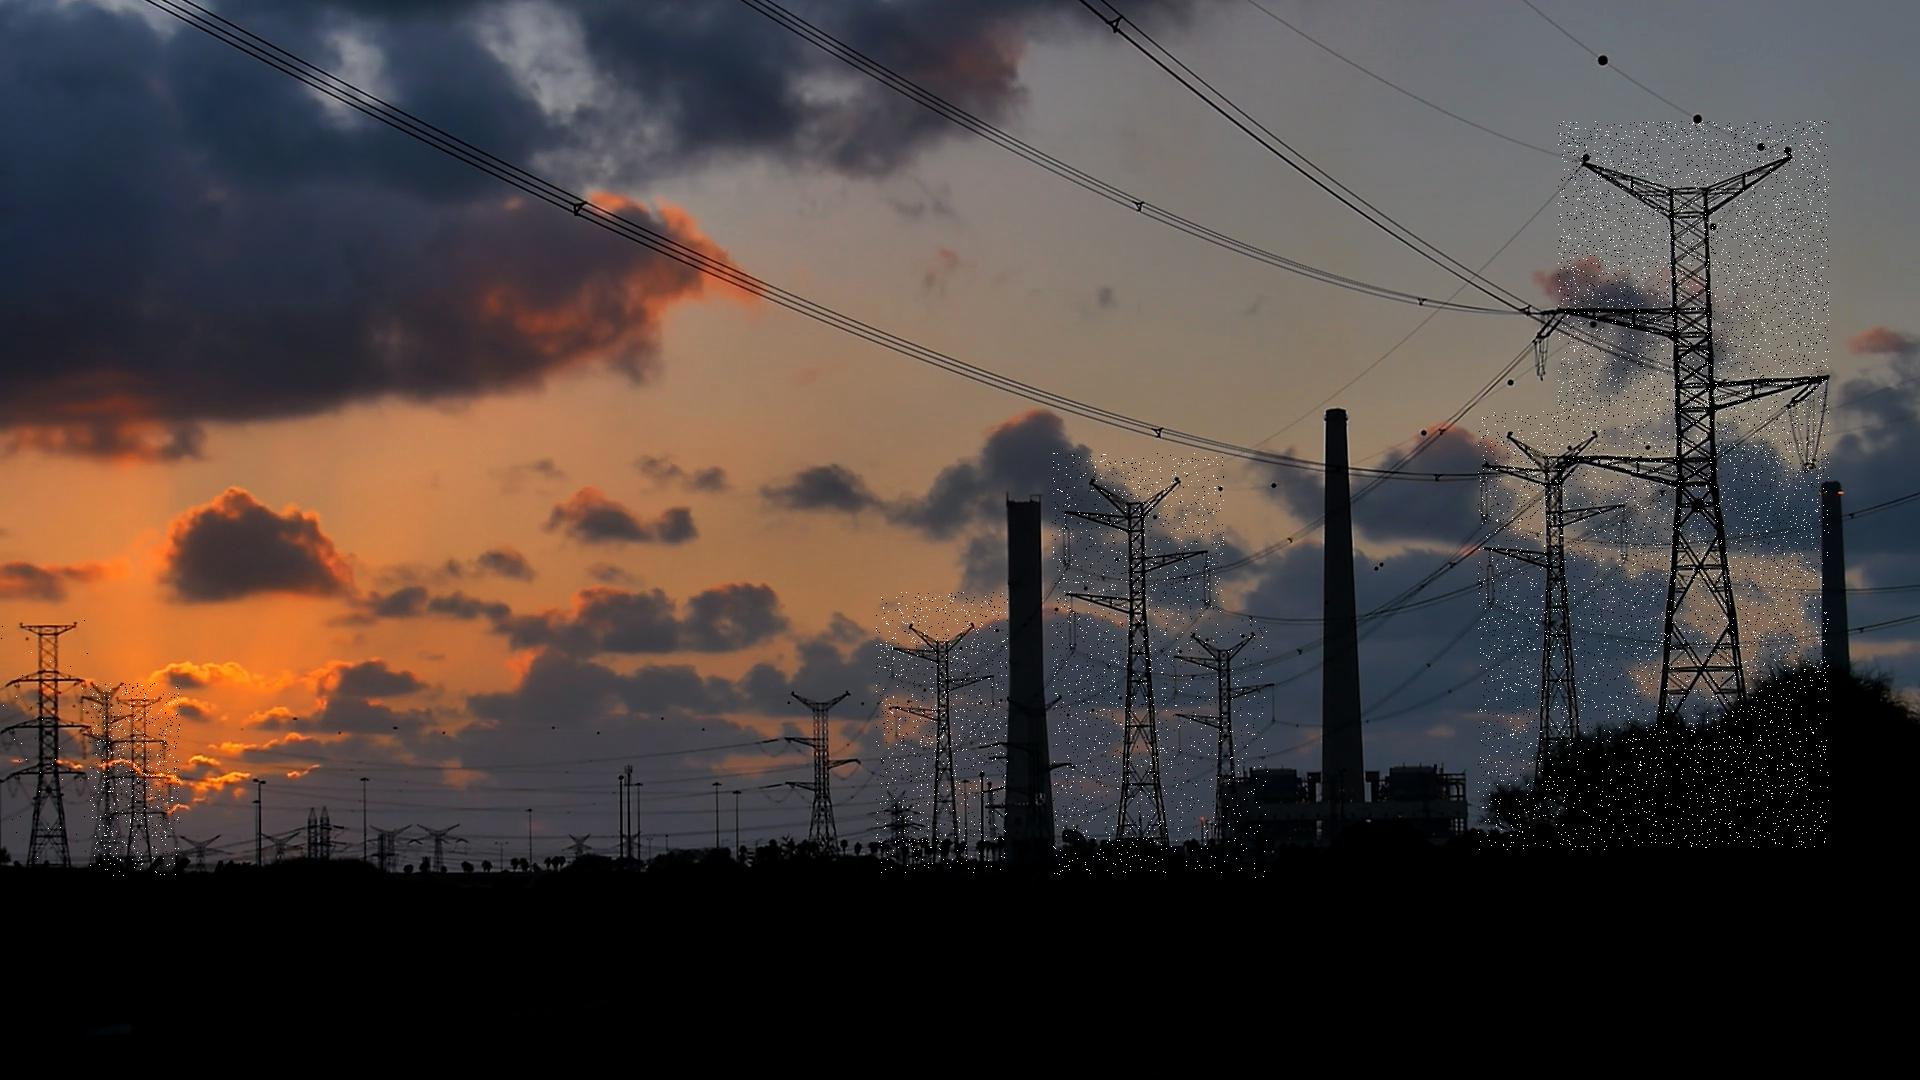cable tower: (1557, 121, 1829, 848), (1052, 454, 1224, 876), (1477, 411, 1630, 851), (876, 592, 1007, 873), (1168, 620, 1267, 880), (0, 608, 90, 872), (766, 661, 866, 877), (90, 684, 179, 877)
